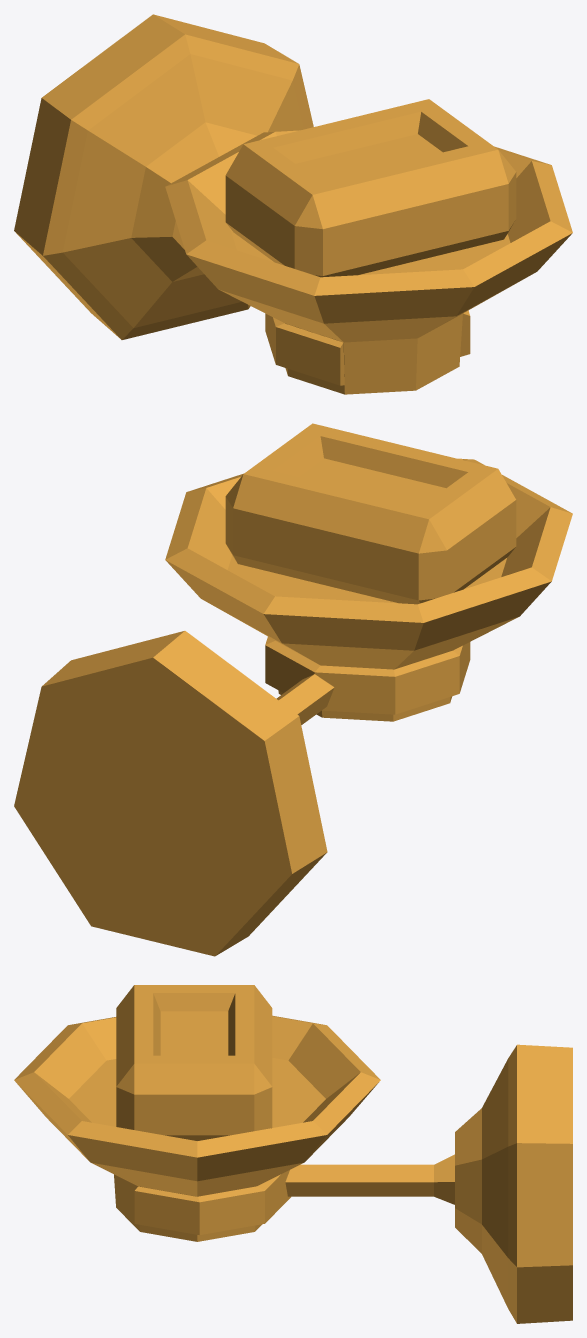
Rendered from SM_Soap_Holder_Victorian.fbx.
3 views of the same model, one above another, from view 1: azimuth 30°, elevation 25°; view 2: azimuth 150°, elevation 25°; view 3: azimuth 270°, elevation 25° (orthographic). The views are drawn at different scales.
Visible parts, largest first — view 1: soap-holder-victorian; view 2: soap-holder-victorian; view 3: soap-holder-victorian.
Boxes of the visible parts, left/top/right/bottom form: soap-holder-victorian: left=14, top=14, right=572, bottom=394; soap-holder-victorian: left=14, top=423, right=572, bottom=956; soap-holder-victorian: left=14, top=985, right=572, bottom=1323.
Size of the model in its own units: 0.1643 by 0.1347 by 0.2502.
